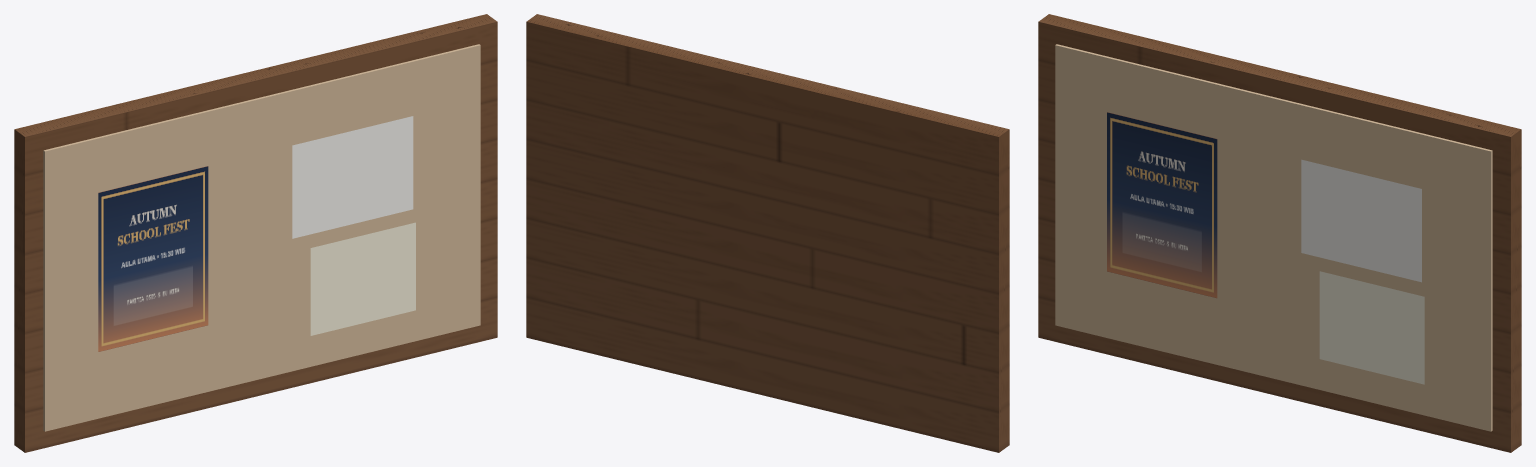
The model's file is ch5_prop_bulletin_board.glb.
3 renders of one model, left to right at view 1: azimuth 30°, elevation 25°; view 2: azimuth 150°, elevation 25°; view 3: azimuth 330°, elevation 25°, orthographic.
Visible parts, largest first — view 1: ch5_prop_bulletin_board; view 2: ch5_prop_bulletin_board; view 3: ch5_prop_bulletin_board.
Boxes of the visible parts, x1,y1,x2,y2 form: ch5_prop_bulletin_board: (14,14,497,452); ch5_prop_bulletin_board: (526,14,1009,452); ch5_prop_bulletin_board: (1038,14,1521,452).
Size of the model in its own units: 1.8 by 1.15 by 0.085.
5 materials, 2 textured.
